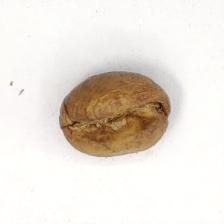NG: (67, 85, 162, 148)
